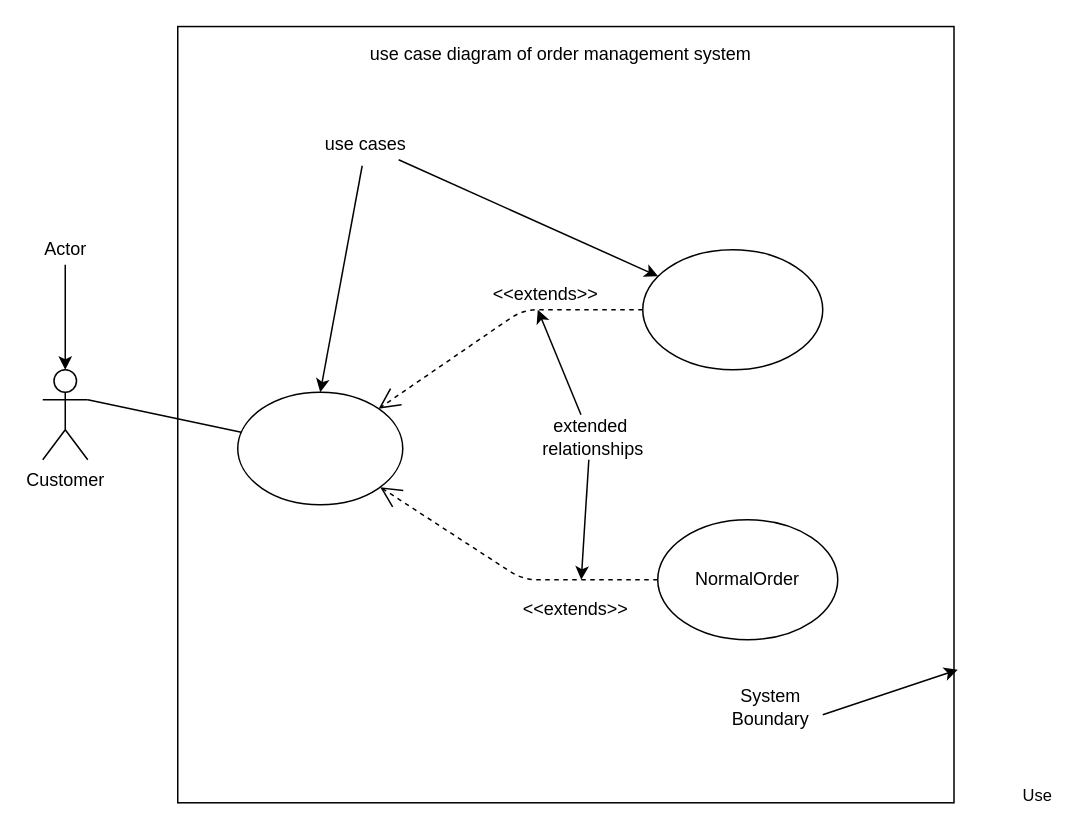
This 1077x831 diagram has some shape labels left out. The shapes that lost their labels are listed below. From the top down, each one's box as (x1, y1, x2, y2) in pixels, then its label:
(641, 248, 823, 370): SpecialOrder
(236, 391, 403, 505): order
